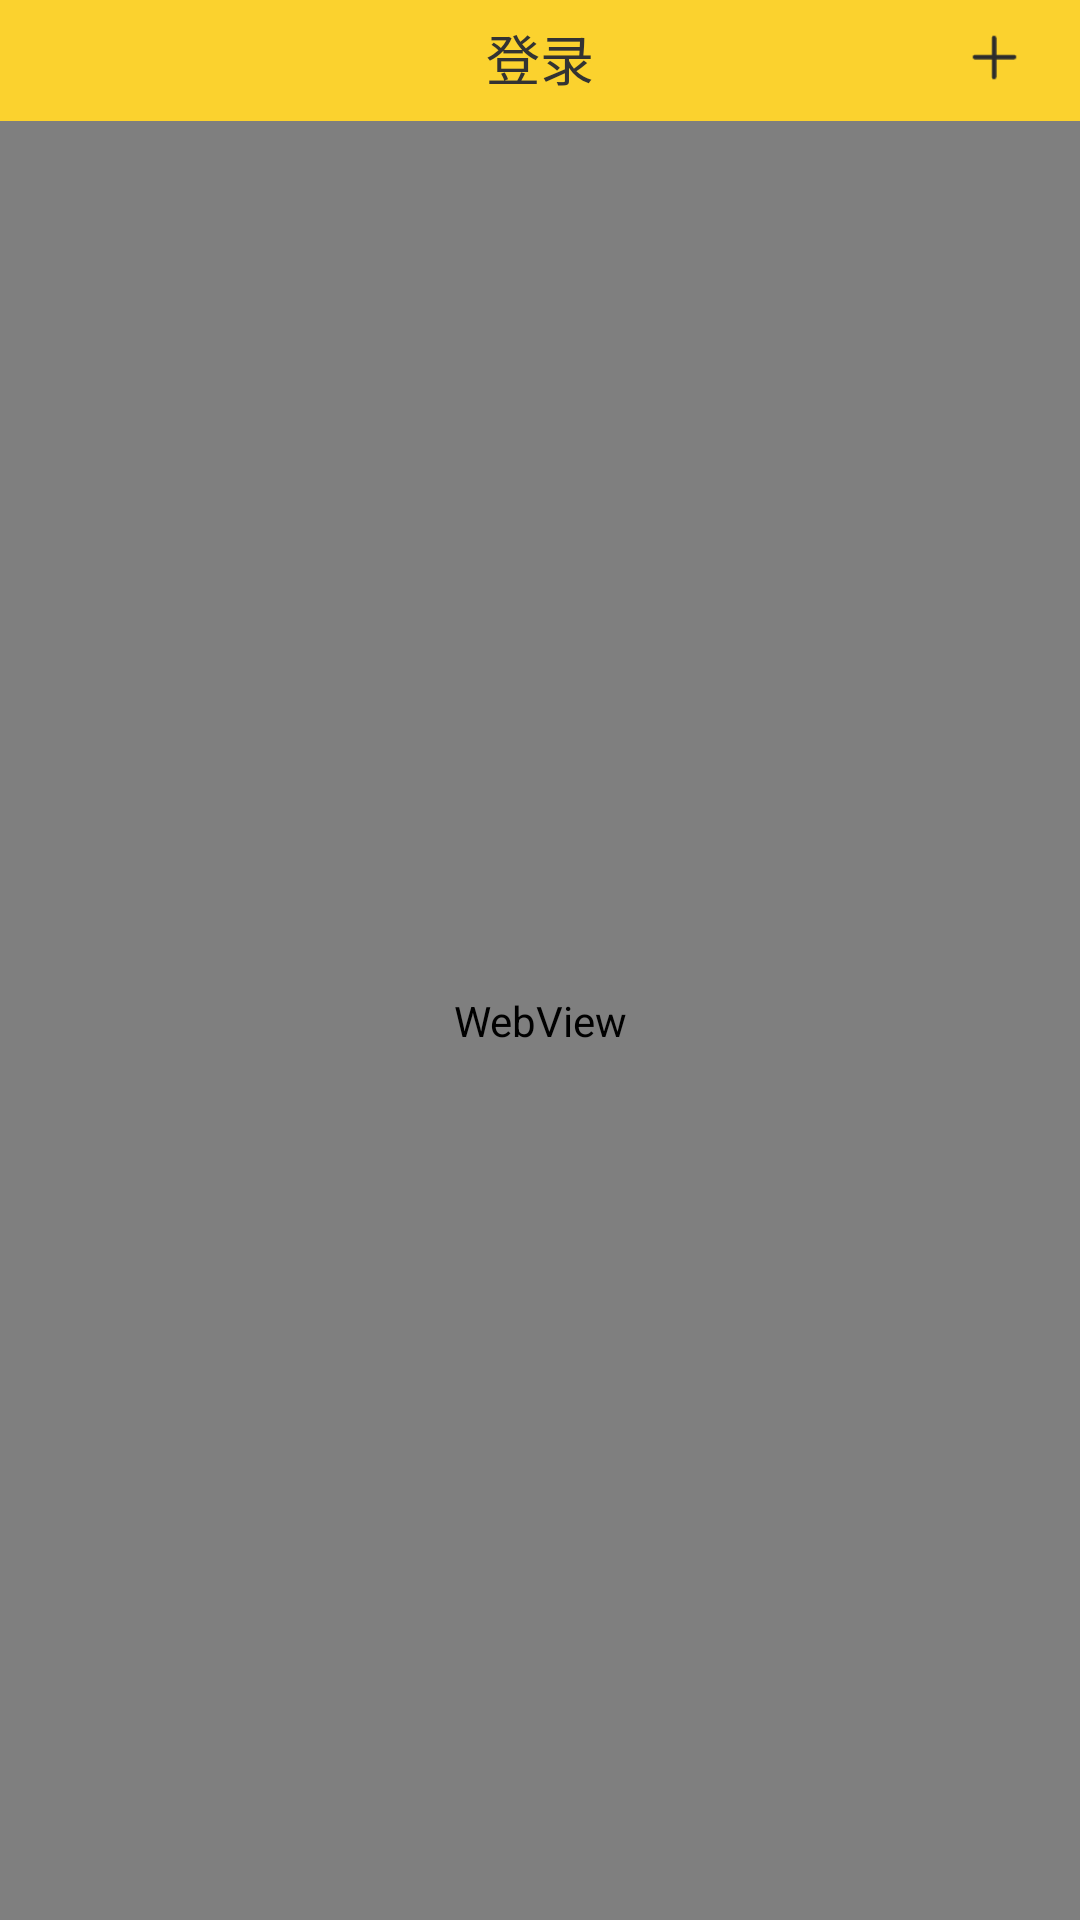

Icons on this 1080w x 1920h Android screen, each with the point to tap as (x=x, y=y):
add: (x=994, y=57)
